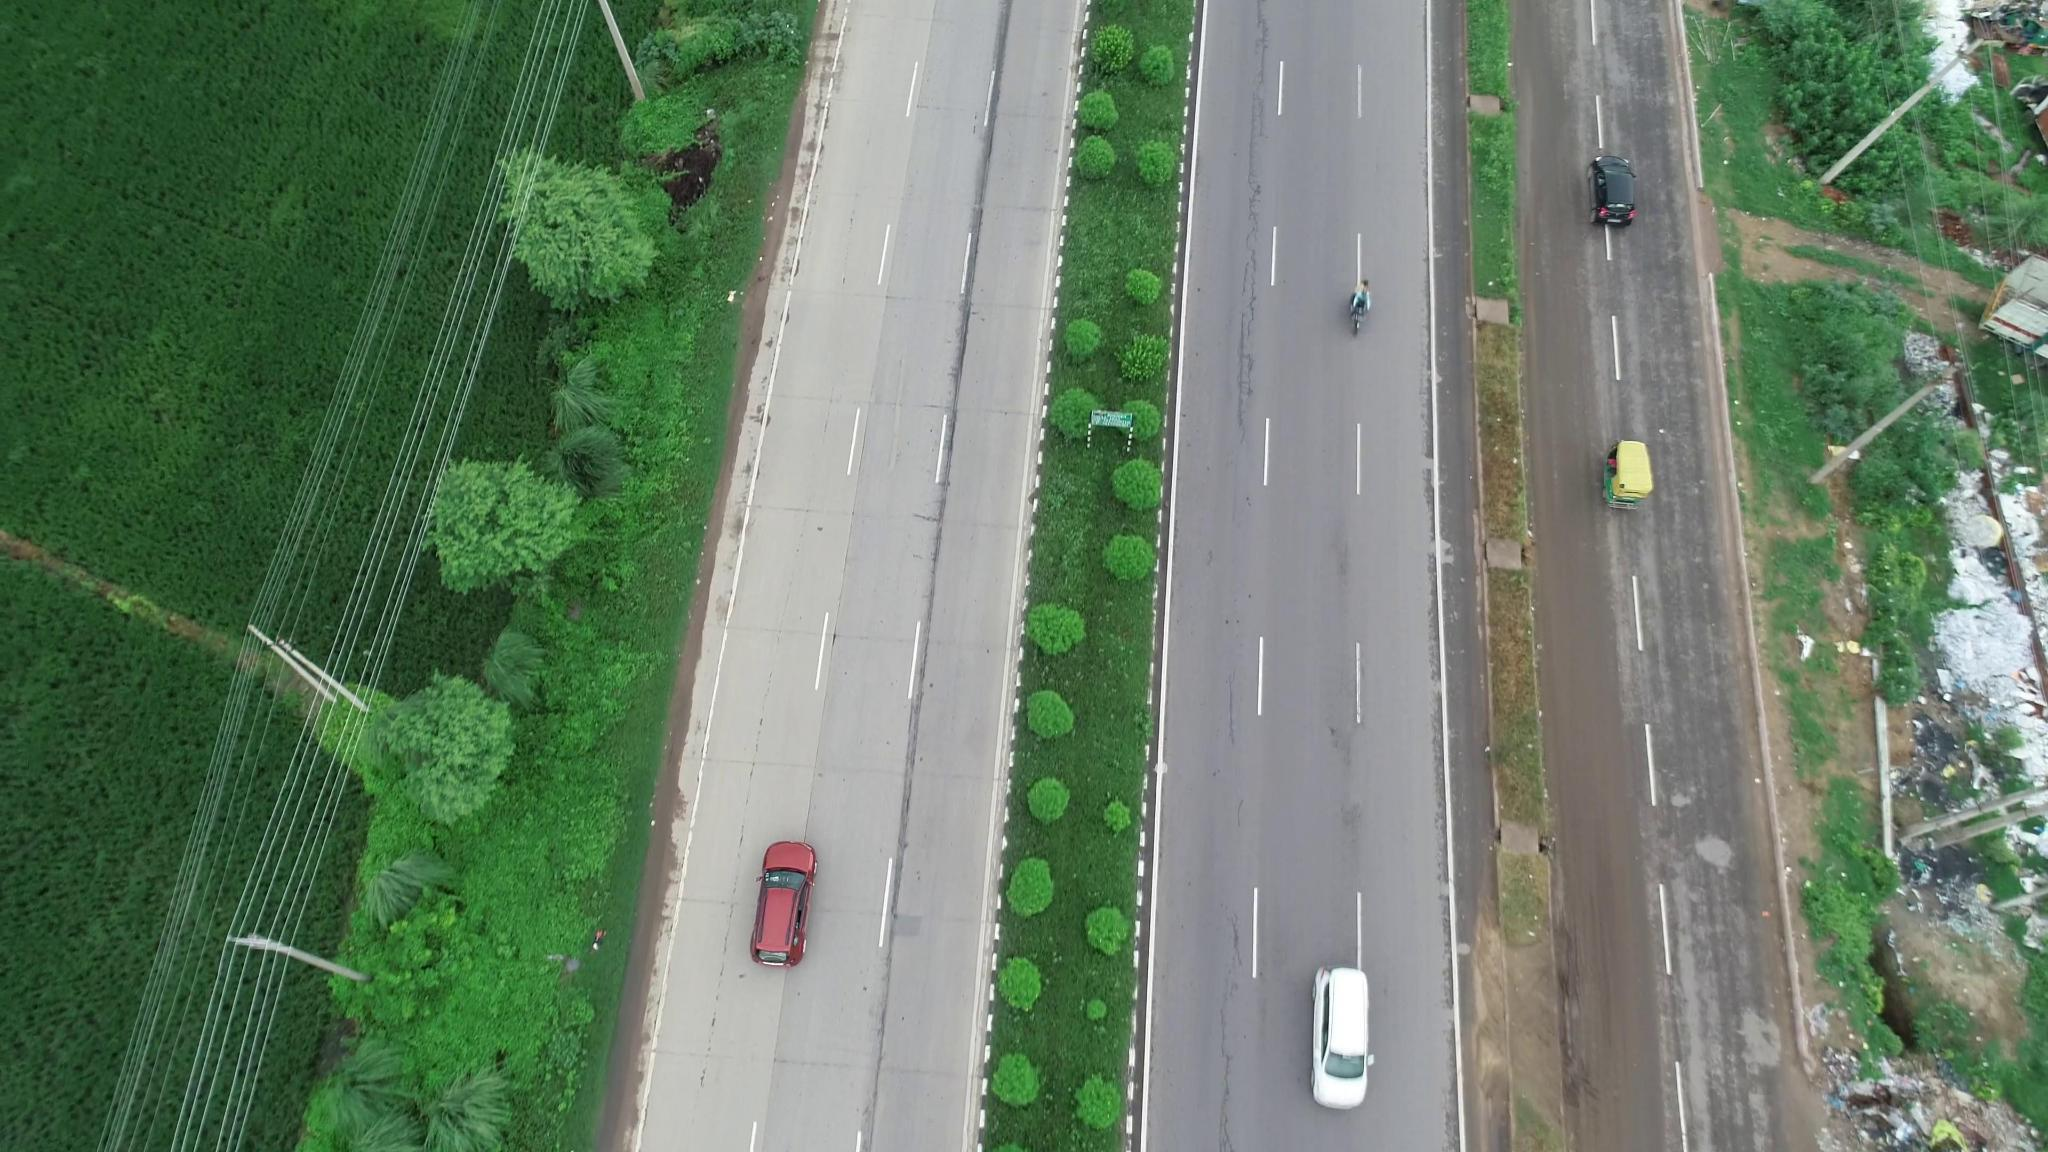Cracks: (1224, 15, 1279, 447)
